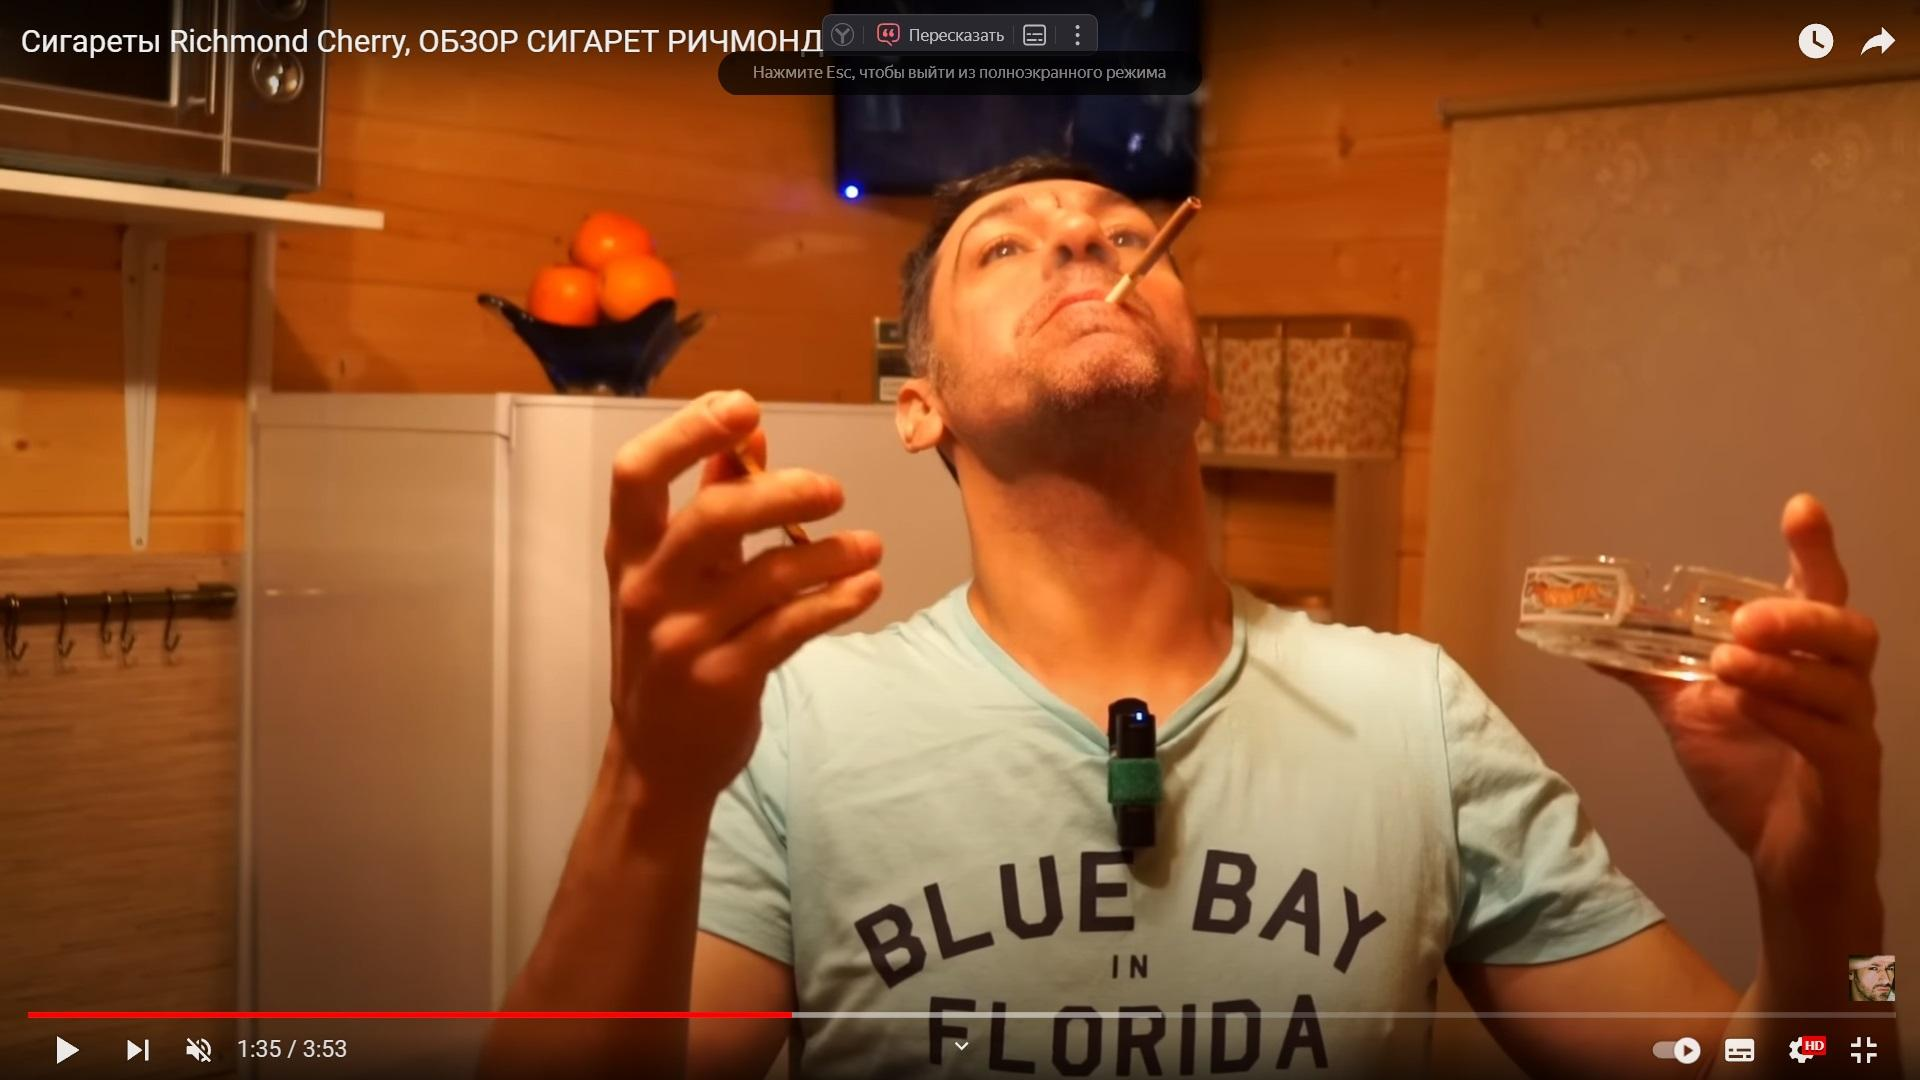cigarette: (1105, 195, 1203, 306)
